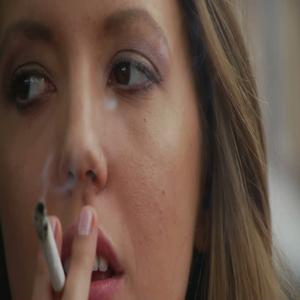cigarette: (34, 202, 66, 293)
